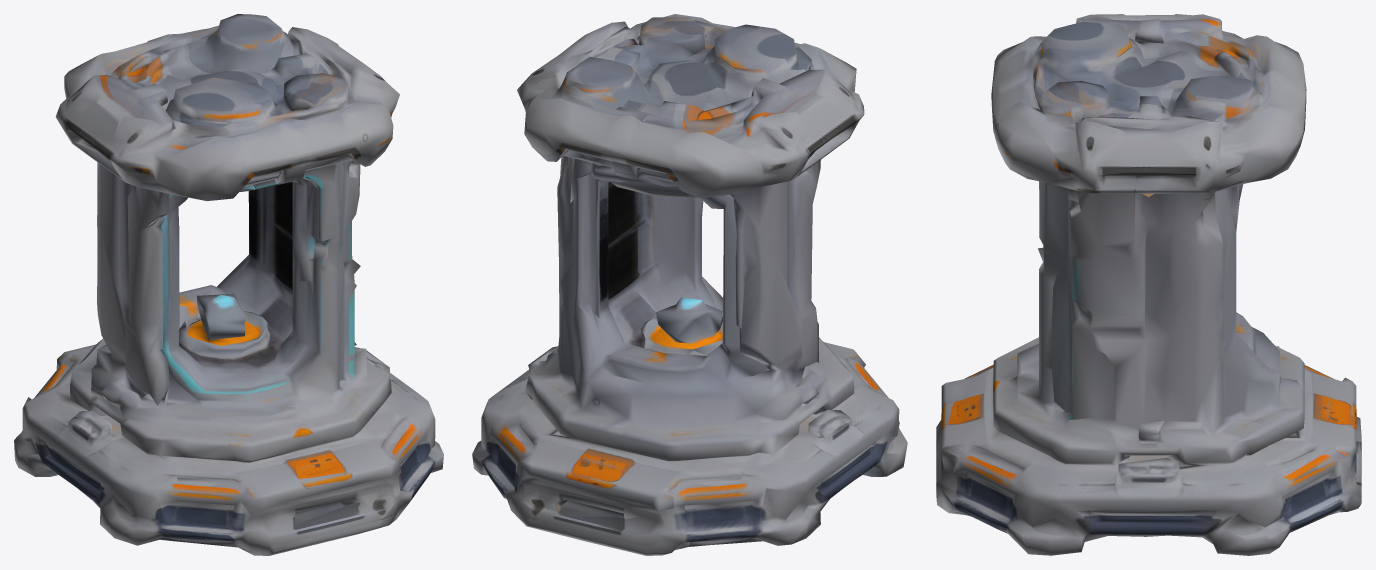
The model's file is energy_vault.glb.
The picture shows the model from 3 angles, left to right: view 1: azimuth 30°, elevation 25°; view 2: azimuth 150°, elevation 25°; view 3: azimuth 270°, elevation 25°; orthographic projection. The views are drawn at different scales.
Parts seen in each view (by area): view 1: tripo_node_7414c346-f83f-4b28-9cd8-c887253cde36; view 2: tripo_node_7414c346-f83f-4b28-9cd8-c887253cde36; view 3: tripo_node_7414c346-f83f-4b28-9cd8-c887253cde36.
Part boxes in pixels (x1,y1,x2,y2): tripo_node_7414c346-f83f-4b28-9cd8-c887253cde36: (14, 14, 443, 555); tripo_node_7414c346-f83f-4b28-9cd8-c887253cde36: (472, 14, 907, 555); tripo_node_7414c346-f83f-4b28-9cd8-c887253cde36: (936, 14, 1361, 555).
Bounding box in the file's own units: 0.8245 × 0.9962 × 0.8965.
Materials: 1 (1 with a texture image).
